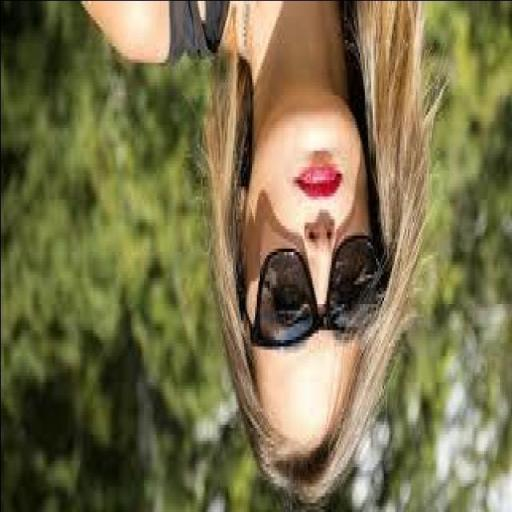glasses: (240, 232, 406, 352)
